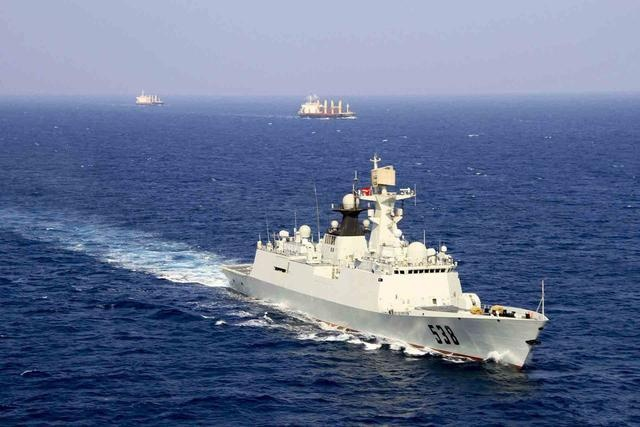Cargoship: (296, 92, 360, 124), (133, 93, 165, 109)
warship: (215, 155, 554, 372)
